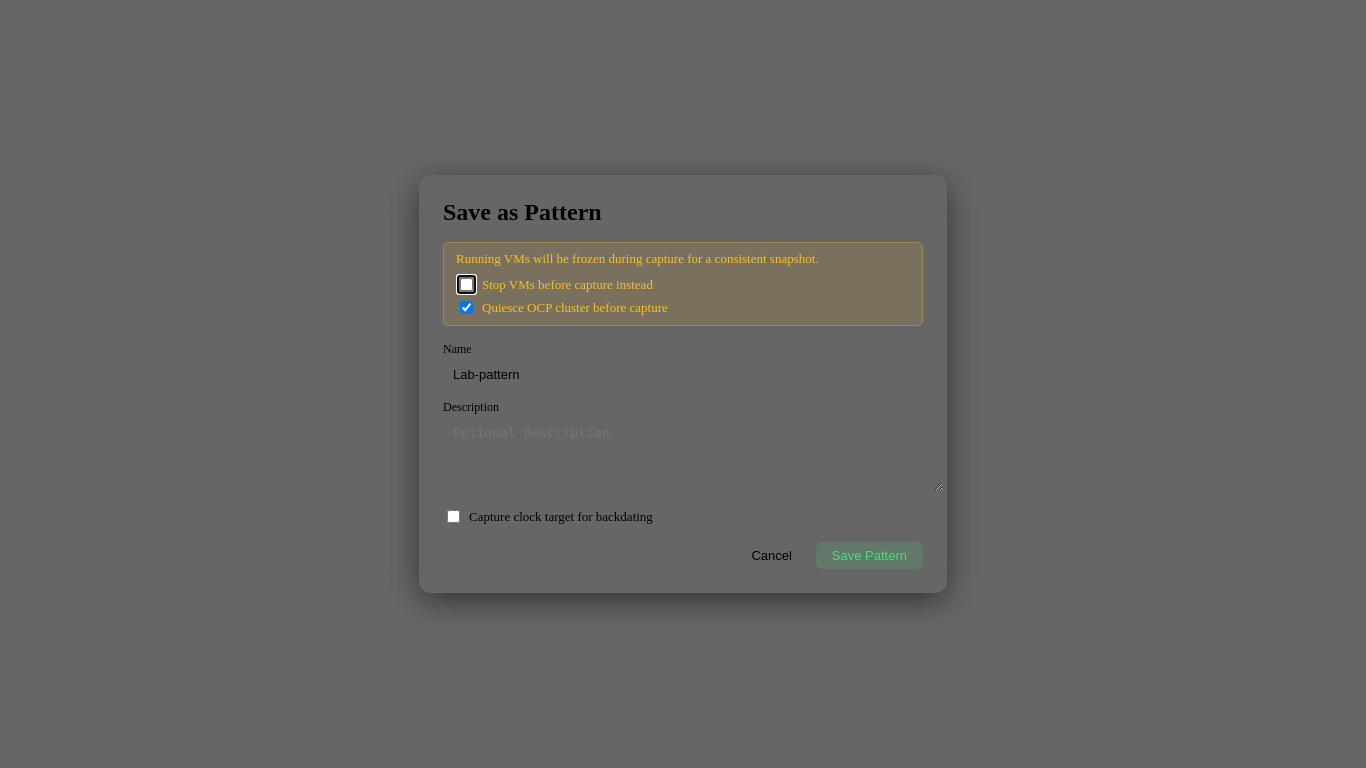
capture dialogs › does not begin pattern capture when force-stop never completes
The image size is (1366, 768).
Click the checkbox labelled "Stop VMs before capture instead".
click(466, 284)  # box left=460, top=278, right=473, bottom=291
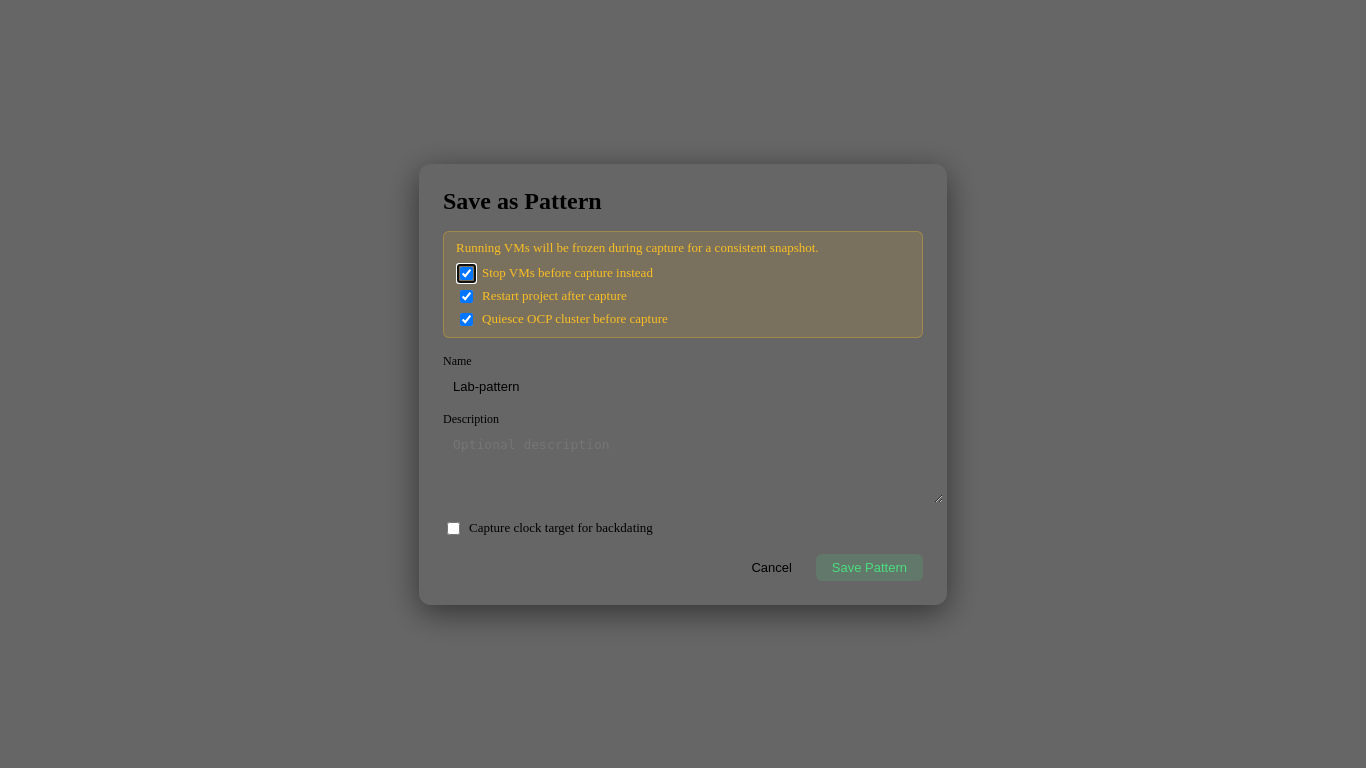
Click the button "Save Pattern".
click(869, 567)  # box left=816, top=554, right=923, bottom=580
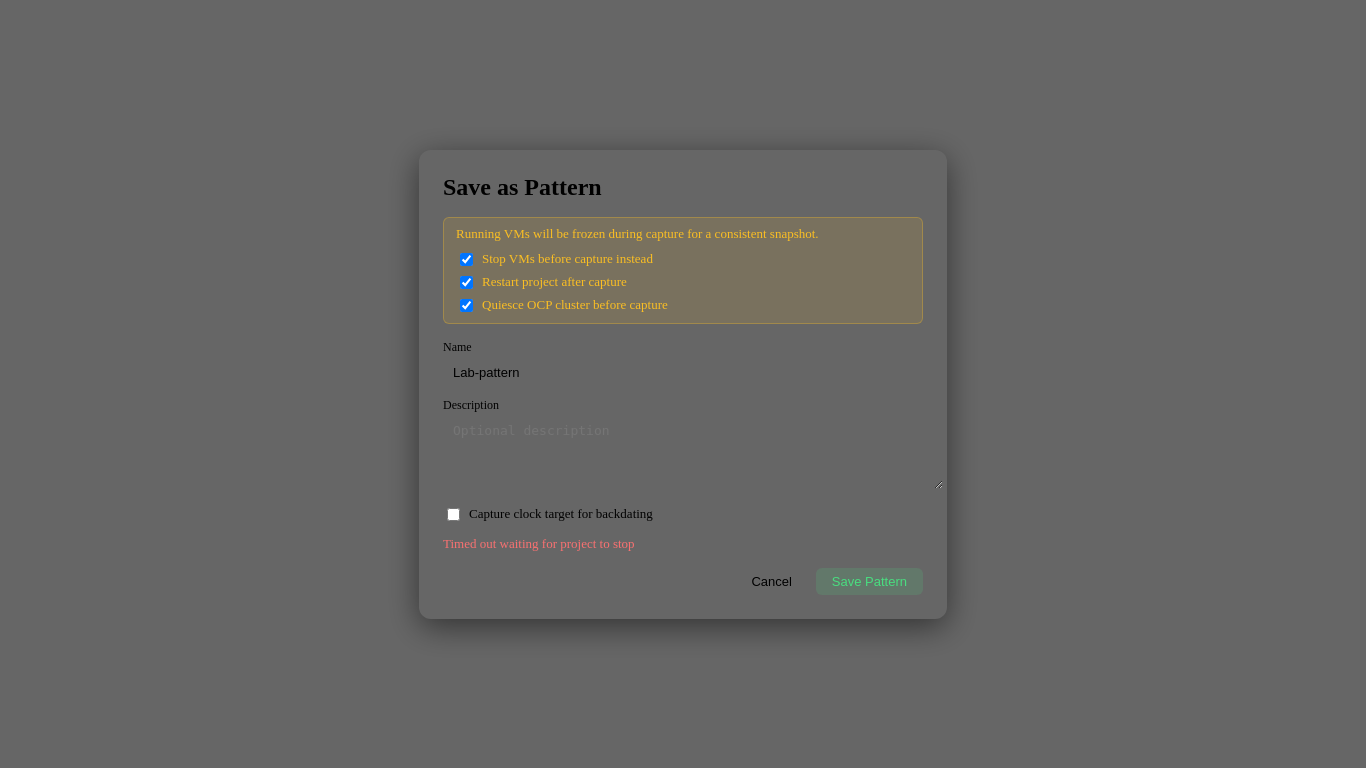
Result: the text "Timed out waiting for project to stop" is shown at left=443, top=536, right=635, bottom=550
